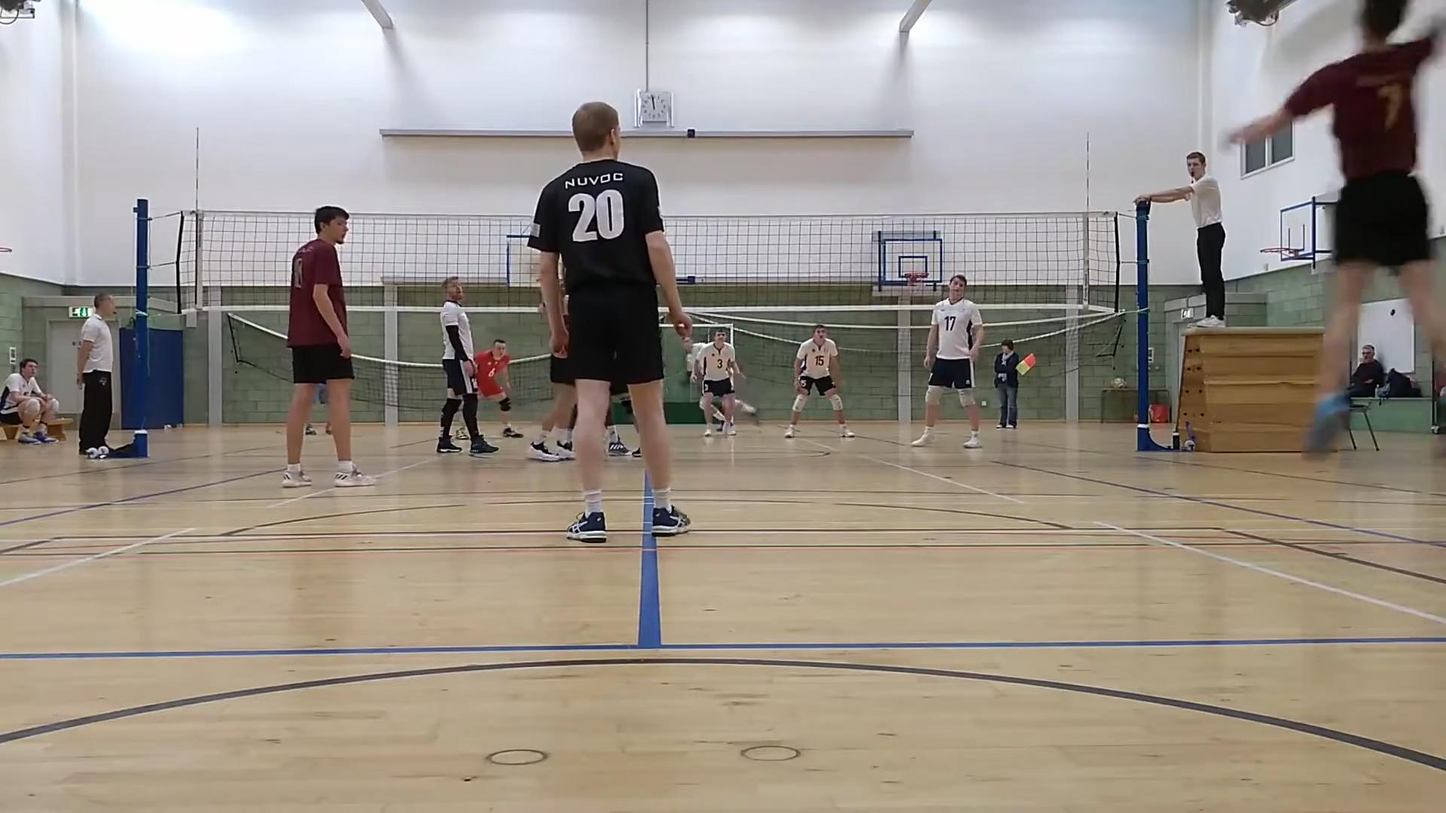battuta: (1223, 0, 1446, 463)
